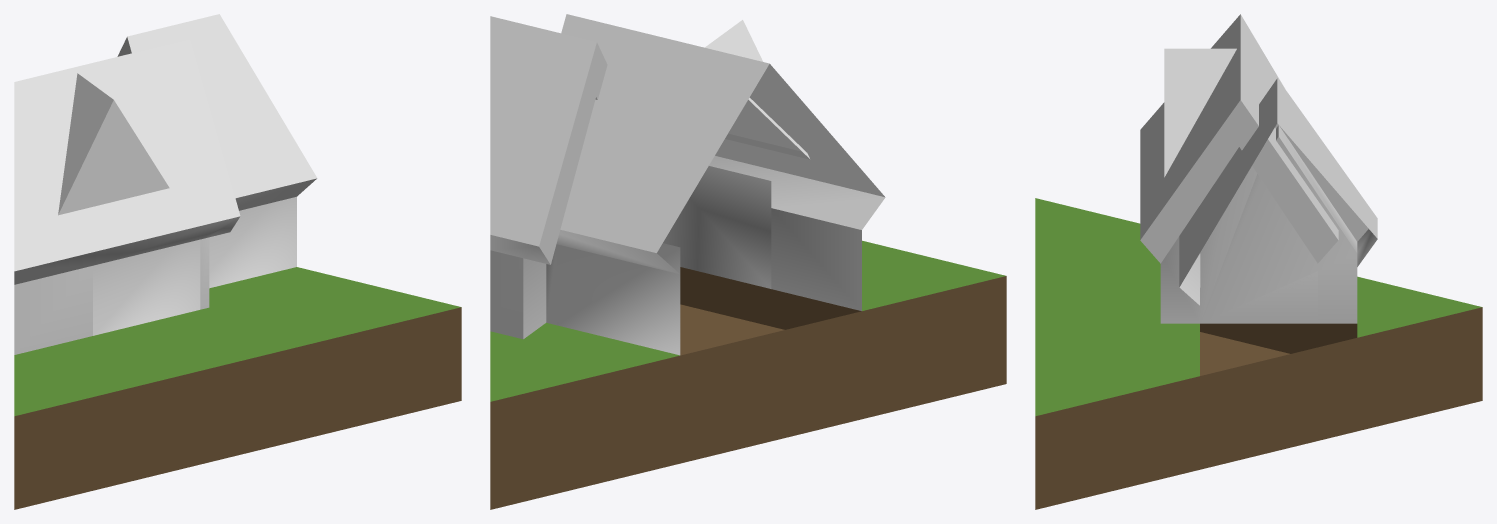
File: Casa_Adossada_EE.fbx
3 views of the same model, side by side, from view 1: azimuth 30°, elevation 25°; view 2: azimuth 150°, elevation 25°; view 3: azimuth 270°, elevation 25° (orthographic). The views are drawn at different scales.
Visible parts, largest first — view 1: Casa_Adossada_EE, DetallTeulada.006, DetallParet.008, DetallParet.101; view 2: Casa_Adossada_EE, DetallParet.009, DetallParet.008, DetallTeulada.006; view 3: Casa_Adossada_EE, DetallTeulada.006.
Part boxes in pixels (left/top/right/bottom): Casa_Adossada_EE: left=14, top=14, right=461, bottom=509; DetallTeulada.006: left=58, top=73, right=169, bottom=215; DetallParet.008: left=93, top=239, right=200, bottom=335; DetallParet.101: left=209, top=196, right=296, bottom=288; Casa_Adossada_EE: left=490, top=14, right=1006, bottom=509; DetallParet.009: left=556, top=243, right=680, bottom=355; DetallParet.008: left=663, top=166, right=771, bottom=288; DetallTeulada.006: left=705, top=20, right=810, bottom=159; Casa_Adossada_EE: left=1035, top=14, right=1482, bottom=509; DetallTeulada.006: left=1164, top=48, right=1236, bottom=177.
Size of the model in its own units: 100 by 70 by 86.6.
